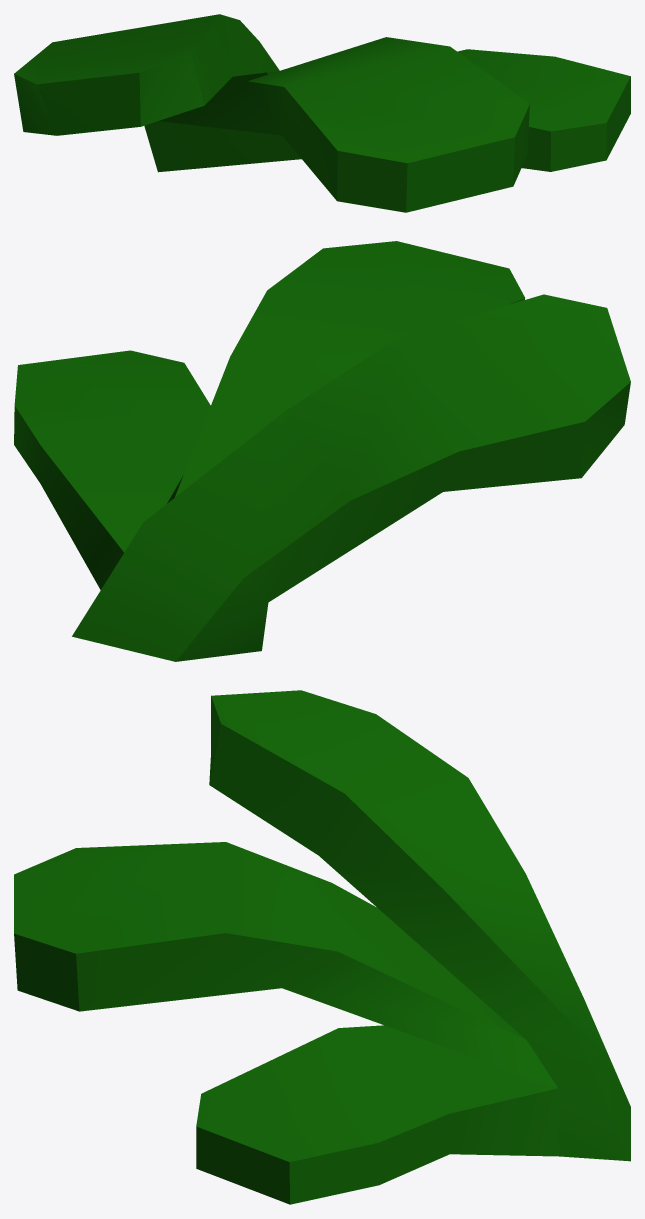
The model's file is SM_Grass_6.FBX.
3 views of the same model, one above another, from view 1: azimuth 30°, elevation 25°; view 2: azimuth 150°, elevation 25°; view 3: azimuth 270°, elevation 25° (orthographic). The views are drawn at different scales.
Visible parts, largest first — view 1: 6; view 2: 6; view 3: 6.
Boxes of the visible parts, x1,y1,x2,y2 form: 6: (14,14,630,212); 6: (14,241,630,661); 6: (14,690,630,1204).
Bounding box in the file's own units: 12.41 × 5.19 × 9.99.
